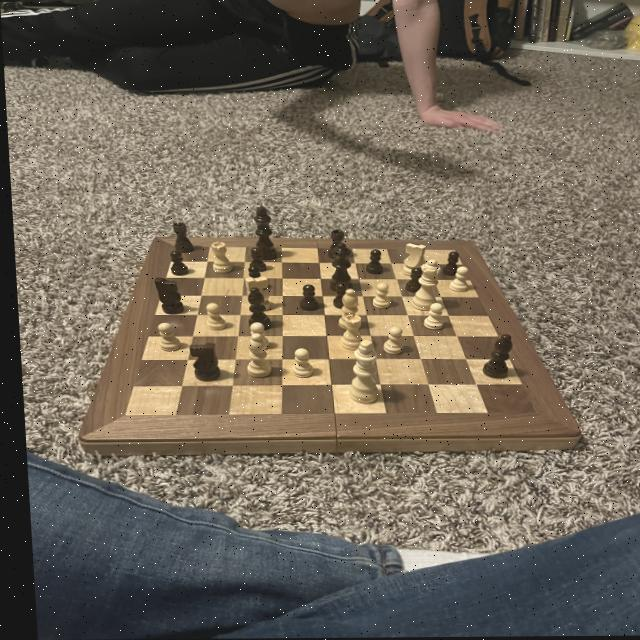bishop: (473, 335, 515, 381), (242, 285, 273, 332)
black-bishop: (247, 201, 282, 263)
black-king: (182, 342, 220, 384), (149, 277, 184, 317)
black-knight: (398, 267, 425, 296), (240, 245, 267, 274), (293, 283, 318, 313), (164, 249, 189, 279), (435, 251, 459, 280), (360, 248, 385, 275), (327, 282, 347, 311), (243, 265, 264, 289)
black-pawn: (321, 240, 357, 296)
black-queen: (321, 228, 351, 261), (168, 220, 194, 255)
black-rook: (237, 331, 273, 381), (331, 287, 357, 331)
white-bishop: (339, 339, 379, 407)
white-king: (238, 275, 270, 312), (394, 243, 427, 278)
white-knight: (151, 321, 181, 355), (442, 265, 472, 295), (284, 347, 311, 380), (375, 325, 402, 358), (415, 303, 445, 331), (243, 321, 269, 350), (199, 302, 224, 332), (365, 282, 389, 311)
white-pawn: (403, 257, 443, 313)
white-queen: (330, 312, 363, 352), (205, 240, 230, 272)
